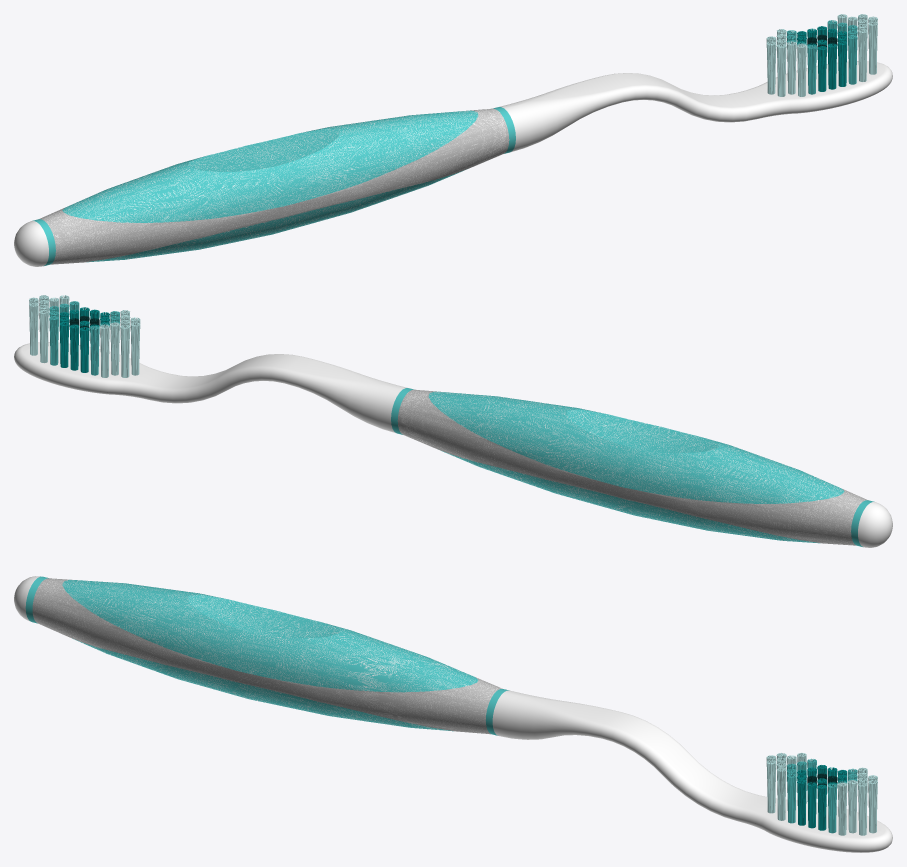
Rendered from toothbrush.dae.
3 renders of one model, top to bottom at view 1: azimuth 30°, elevation 25°; view 2: azimuth 150°, elevation 25°; view 3: azimuth 330°, elevation 25°, orthographic.
Visible parts, largest first — view 1: group_4 (×5), group_0; view 2: group_4 (×5), group_0; view 3: group_4 (×4), group_0.
Part boxes in pixels (x1=…): group_4 (×5): x1=14, y1=108, x2=509, y2=266; group_0: x1=499, y1=61, x2=892, y2=151; group_4 (×5): x1=397, y1=389, x2=892, y2=547; group_0: x1=14, y1=342, x2=407, y2=432; group_4 (×4): x1=32, y1=578, x2=502, y2=734; group_0: x1=492, y1=690, x2=892, y2=852.
Bounding box in the file's own units: 8.06 × 0.75 × 0.7291.
